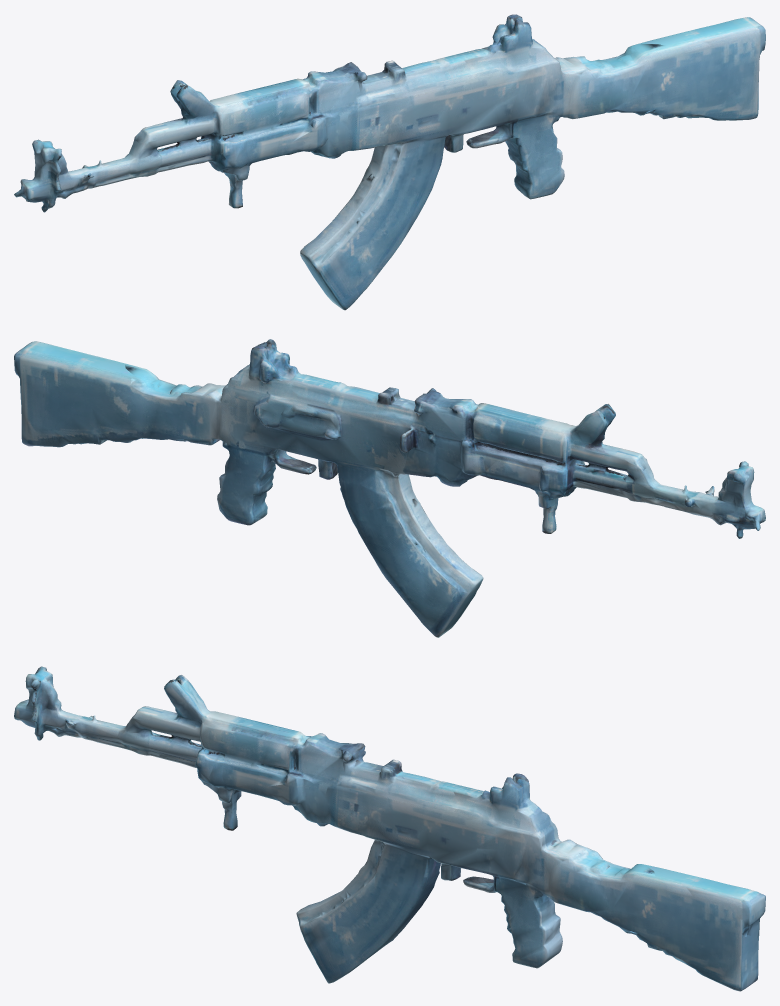
File: AK47_Ice.fbx
3 renders of one model, top to bottom at view 1: azimuth 30°, elevation 25°; view 2: azimuth 150°, elevation 25°; view 3: azimuth 330°, elevation 25°, orthographic.
Visible parts, largest first — view 1: Mesh_0; view 2: Mesh_0; view 3: Mesh_0.
Boxes of the visible parts, x1,y1,x2,y2 form: Mesh_0: (14, 14, 765, 310); Mesh_0: (14, 339, 765, 637); Mesh_0: (14, 666, 765, 991).
Size of the model in its own units: 200 by 67.98 by 14.92.
Materials: 1 (1 with a texture image).
